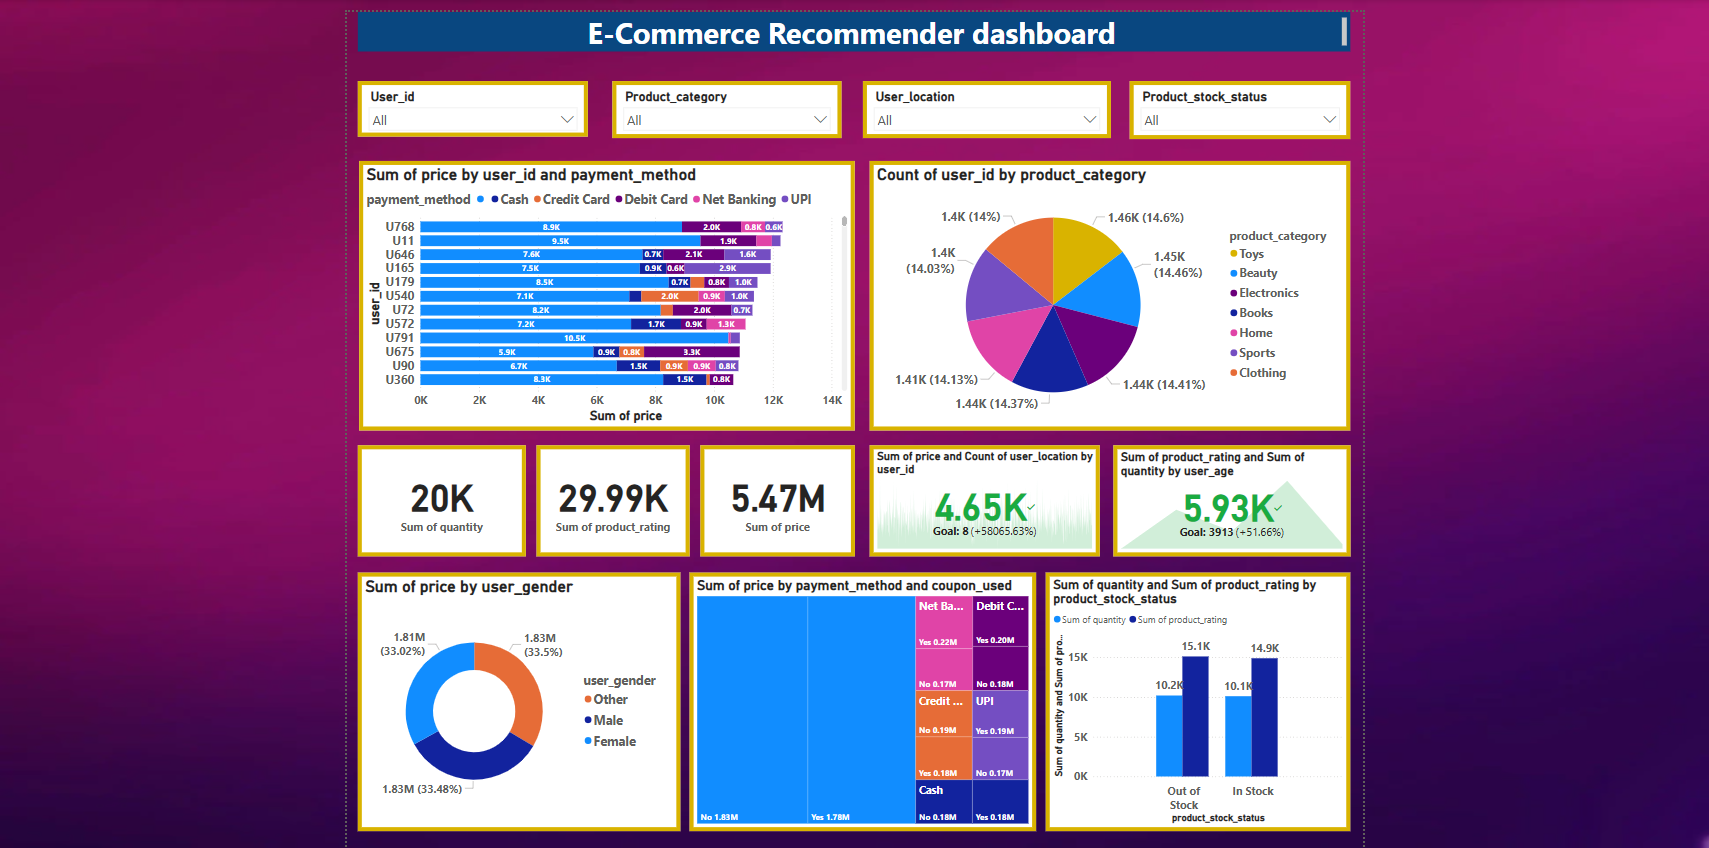

What the dashboard file says about the page in this screenshot:
{"tool":"powerbi","page":{"name":"Page 1","canvas":[1500,1500],"ordinal":0},"visuals":[{"type":"barChart","fields":{"Category":["ecommerce_recommender_dataset.user_id"],"Series":["ecommerce_recommender_dataset.payment_method"],"Y":["Sum(ecommerce_recommender_dataset.price)"]},"box":[18,220,732,398],"z":0},{"type":"slicer","fields":{"Values":["ecommerce_recommender_dataset.user_id"]},"box":[16,102,340,82],"z":1000},{"type":"slicer","fields":{"Values":["ecommerce_recommender_dataset.product_category"]},"box":[392,102,338,84],"z":2000},{"type":"slicer","fields":{"Values":["ecommerce_recommender_dataset.user_location"]},"box":[762,102,366,84],"z":3000},{"type":"pieChart","fields":{"Category":["ecommerce_recommender_dataset.product_category"],"Y":["CountNonNull(ecommerce_recommender_dataset.user_id)"]},"box":[772,220,710,398],"z":4000},{"type":"slicer","fields":{"Values":["ecommerce_recommender_dataset.product_stock_status"]},"box":[1156,102,326,86],"z":5000},{"type":"card","fields":{"Values":["Sum(ecommerce_recommender_dataset.quantity)"]},"box":[16,640,248,164],"z":6000},{"type":"card","fields":{"Values":["Sum(ecommerce_recommender_dataset.product_rating)"]},"box":[280,640,226,164],"z":7000},{"type":"card","fields":{"Values":["Sum(ecommerce_recommender_dataset.price)"]},"box":[522,640,228,164],"z":8000},{"type":"kpi","fields":{"TrendLine":["ecommerce_recommender_dataset.user_id"],"Indicator":["Sum(ecommerce_recommender_dataset.price)"],"Goal":["CountNonNull(ecommerce_recommender_dataset.user_location)"]},"box":[772,640,340,164],"z":9000},{"type":"kpi","fields":{"TrendLine":["ecommerce_recommender_dataset.user_age"],"Indicator":["Sum(ecommerce_recommender_dataset.product_rating)"],"Goal":["Sum(ecommerce_recommender_dataset.quantity)"]},"box":[1132,640,350,164],"z":10000},{"type":"donutChart","fields":{"Category":["ecommerce_recommender_dataset.user_gender"],"Y":["Sum(ecommerce_recommender_dataset.price)"]},"box":[16,828,476,382],"z":11000},{"type":"treemap","fields":{"Group":["ecommerce_recommender_dataset.payment_method"],"Values":["Sum(ecommerce_recommender_dataset.price)"],"Details":["ecommerce_recommender_dataset.coupon_used"]},"box":[506,828,512,382],"z":12000},{"type":"clusteredColumnChart","fields":{"Category":["ecommerce_recommender_dataset.product_stock_status"],"Y":["Sum(ecommerce_recommender_dataset.quantity)","Sum(ecommerce_recommender_dataset.product_rating)"]},"box":[1032,828,450,382],"z":13000},{"type":"textbox","box":[16,0,1466,58],"z":14000}]}

Visuals, with their boxes on the page's 1500x1500 design canvas (x1, y1, x2, y2). These are canvas units, not pixel positions in the 1709x848 screenshot, which may show the page scaled, cropped or inside an application window:
barChart - ecommerce_recommender_dataset.user_id x ecommerce_recommender_dataset.payment_method: <region>18, 220, 750, 618</region>
slicer - ecommerce_recommender_dataset.user_id: <region>16, 102, 356, 184</region>
slicer - ecommerce_recommender_dataset.product_category: <region>392, 102, 730, 186</region>
slicer - ecommerce_recommender_dataset.user_location: <region>762, 102, 1128, 186</region>
pieChart - ecommerce_recommender_dataset.product_category x CountNonNull(ecommerce_recommender_dataset.user_id): <region>772, 220, 1482, 618</region>
slicer - ecommerce_recommender_dataset.product_stock_status: <region>1156, 102, 1482, 188</region>
card - Sum(ecommerce_recommender_dataset.quantity): <region>16, 640, 264, 804</region>
card - Sum(ecommerce_recommender_dataset.product_rating): <region>280, 640, 506, 804</region>
card - Sum(ecommerce_recommender_dataset.price): <region>522, 640, 750, 804</region>
kpi - ecommerce_recommender_dataset.user_id x Sum(ecommerce_recommender_dataset.price): <region>772, 640, 1112, 804</region>
kpi - ecommerce_recommender_dataset.user_age x Sum(ecommerce_recommender_dataset.product_rating): <region>1132, 640, 1482, 804</region>
donutChart - ecommerce_recommender_dataset.user_gender x Sum(ecommerce_recommender_dataset.price): <region>16, 828, 492, 1210</region>
treemap - ecommerce_recommender_dataset.payment_method x Sum(ecommerce_recommender_dataset.price): <region>506, 828, 1018, 1210</region>
clusteredColumnChart - ecommerce_recommender_dataset.product_stock_status x Sum(ecommerce_recommender_dataset.quantity): <region>1032, 828, 1482, 1210</region>
textbox: <region>16, 0, 1482, 58</region>
